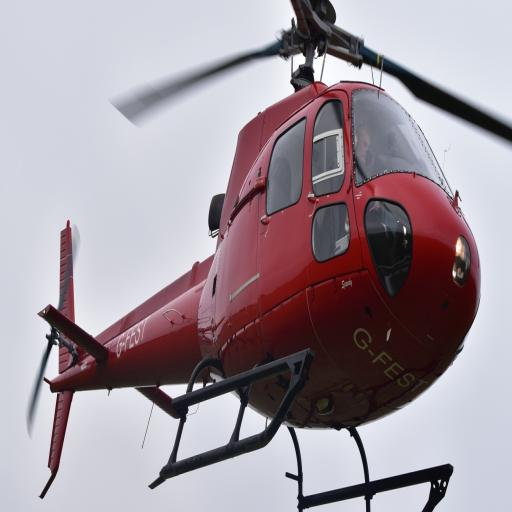helicopter: (27, 2, 506, 507)
